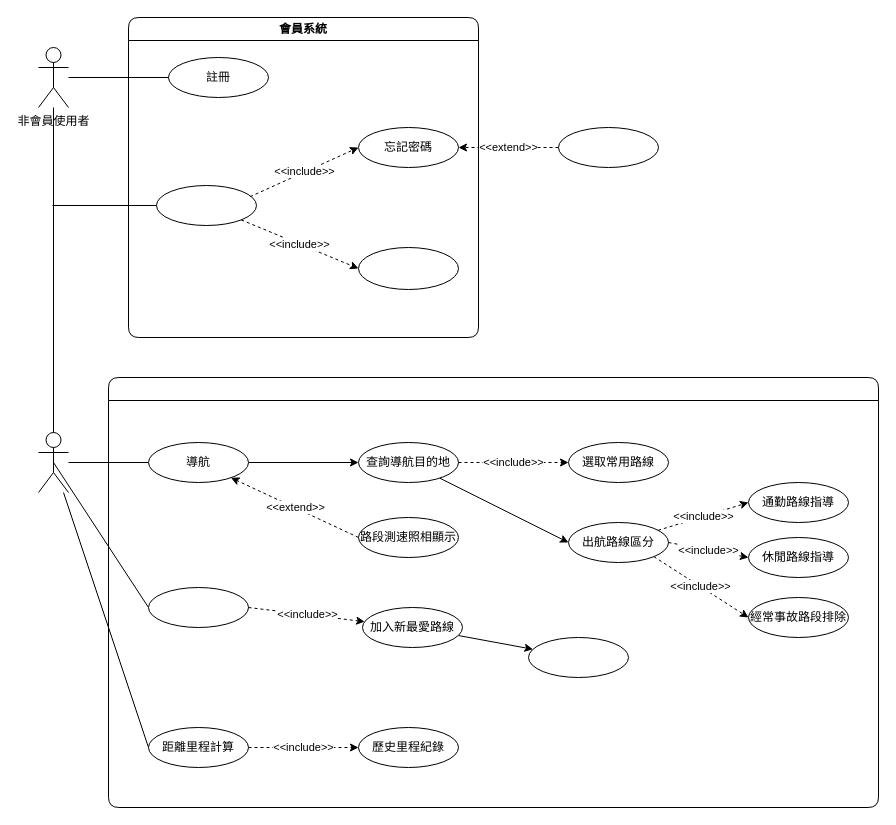
Image size: 896x825. Some labels were removed from this diagram. Each missing label, with the box of its shape:
個人資料修改: (358, 246, 458, 290)
傳送密碼至email: (558, 126, 658, 168)
導航系統: (108, 376, 878, 808)
會員使用者: (38, 432, 68, 492)
查看最愛路線: (528, 636, 628, 678)
登入: (156, 184, 256, 226)
顯示歷史路線: (148, 586, 248, 628)
